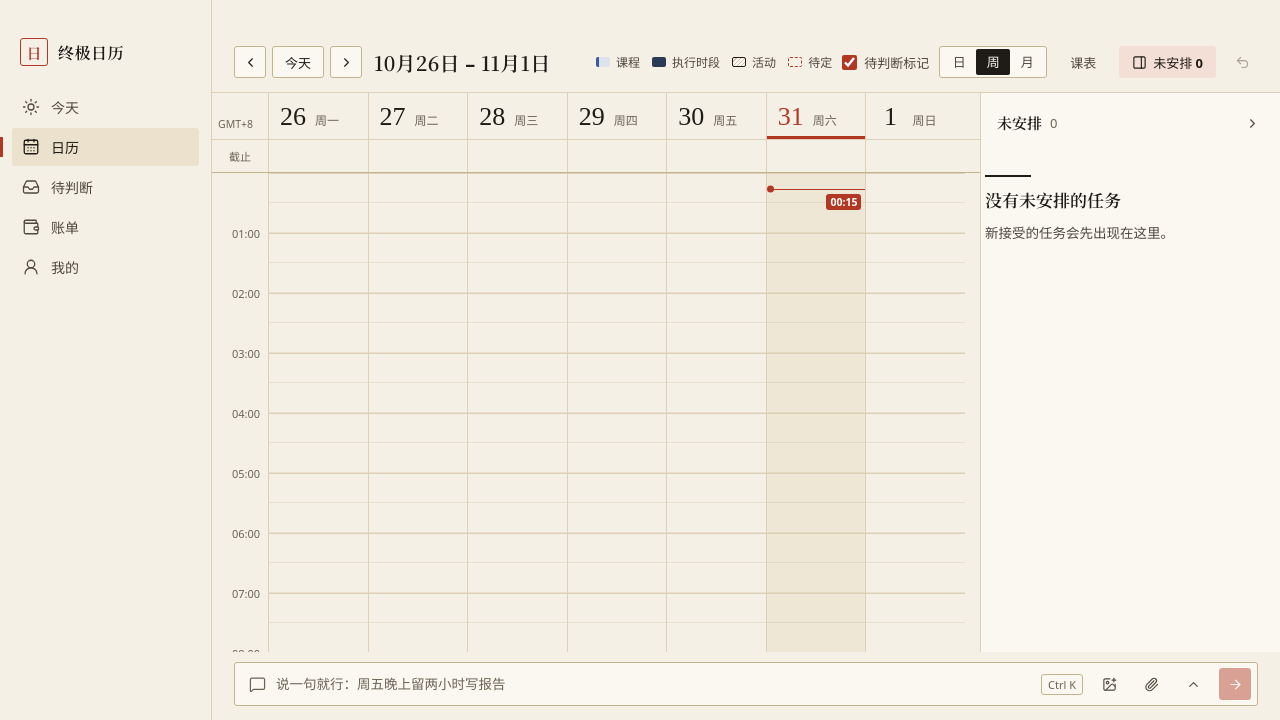
Test: desktop workspace interaction › closes the course manager when navigating from its original screenshot to key settings
The image size is (1280, 720).
Click the button "课表": (1083, 62) top-left (1057, 46), bottom-right (1109, 78)
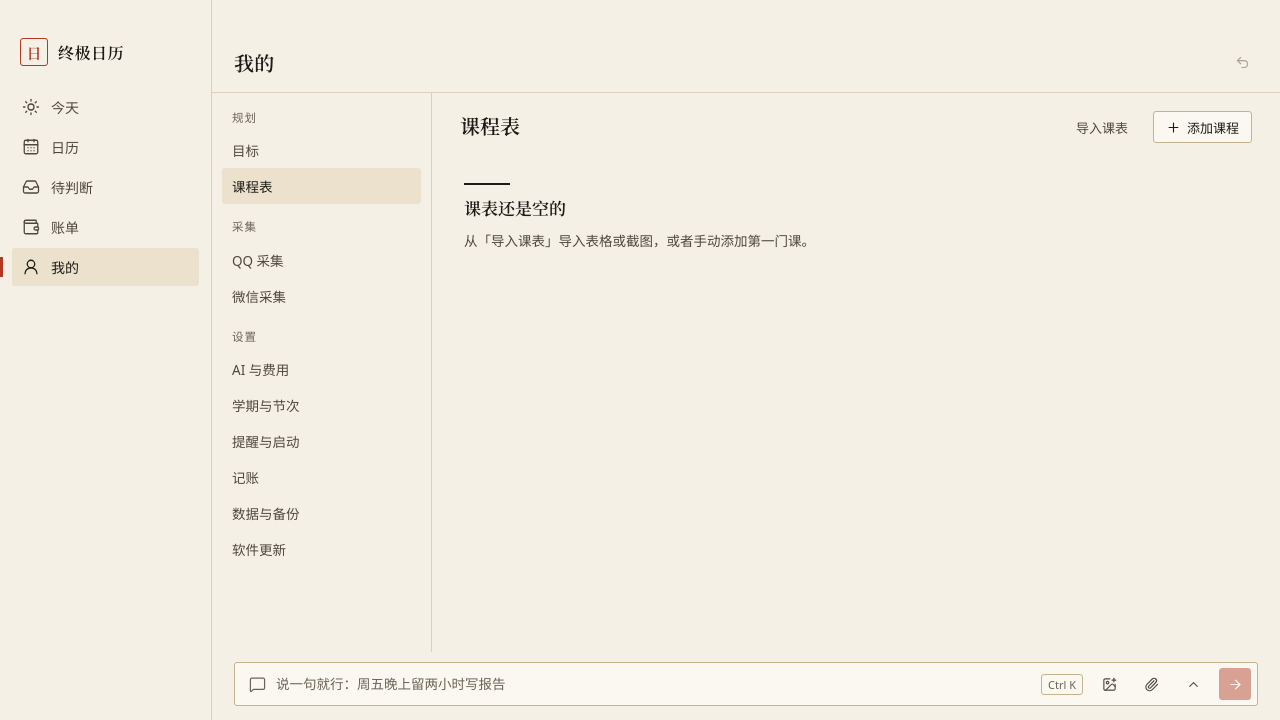
Click the button "导入课表": (1102, 127) top-left (1063, 111), bottom-right (1141, 143)
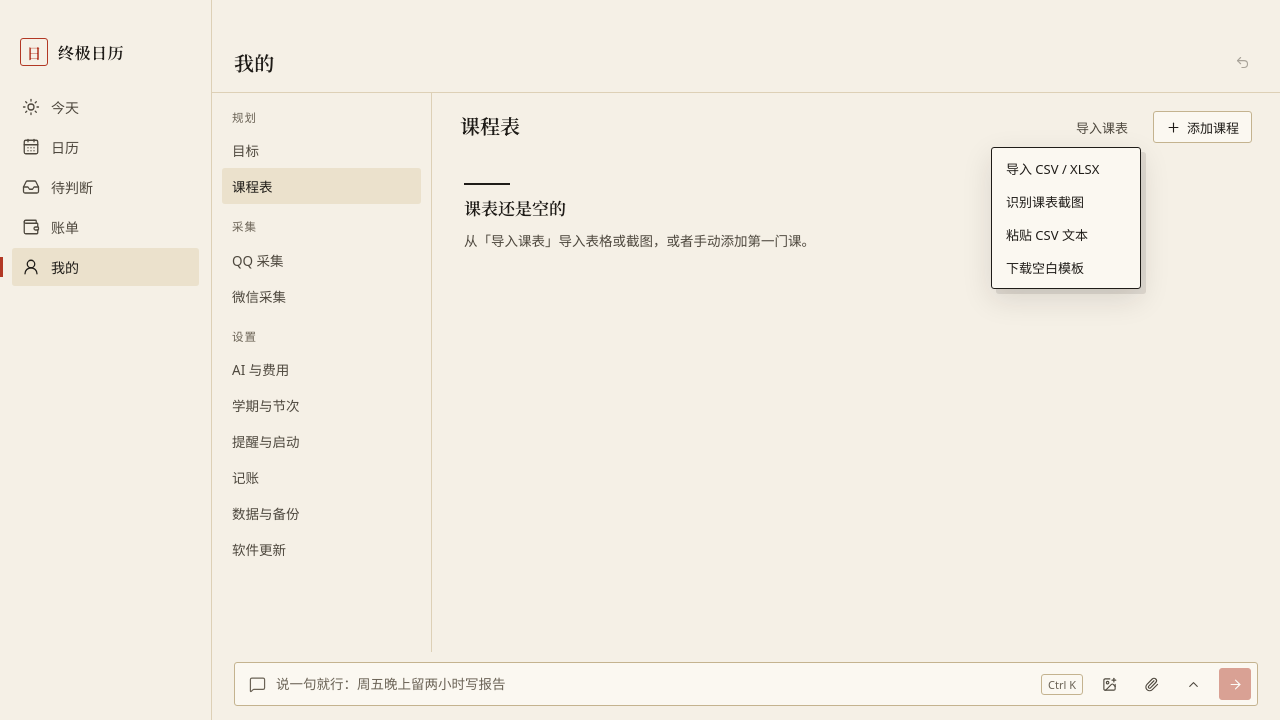
Click the menu item "导入 CSV / XLSX": (1066, 168) top-left (996, 152), bottom-right (1136, 185)
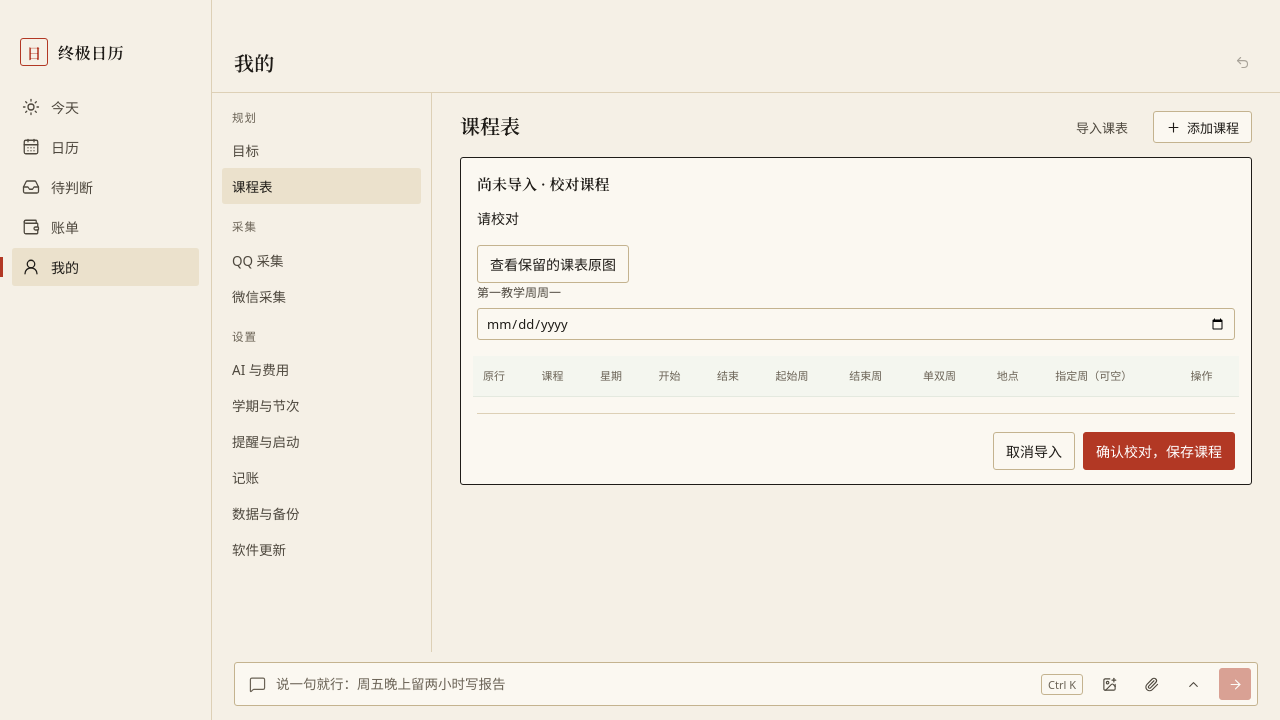
Click the button "查看保留的课表原图": (553, 264) top-left (477, 245), bottom-right (629, 283)
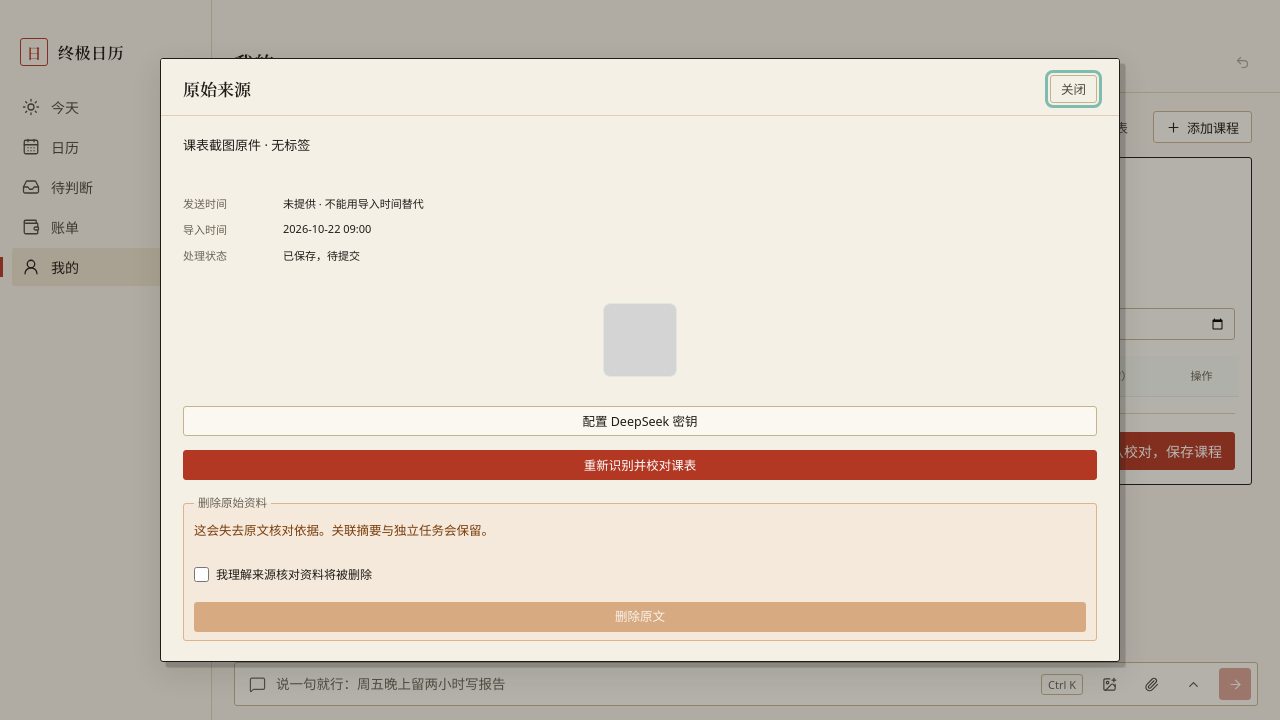
Click the button "配置 DeepSeek 密钥": (640, 421) top-left (183, 406), bottom-right (1097, 436)
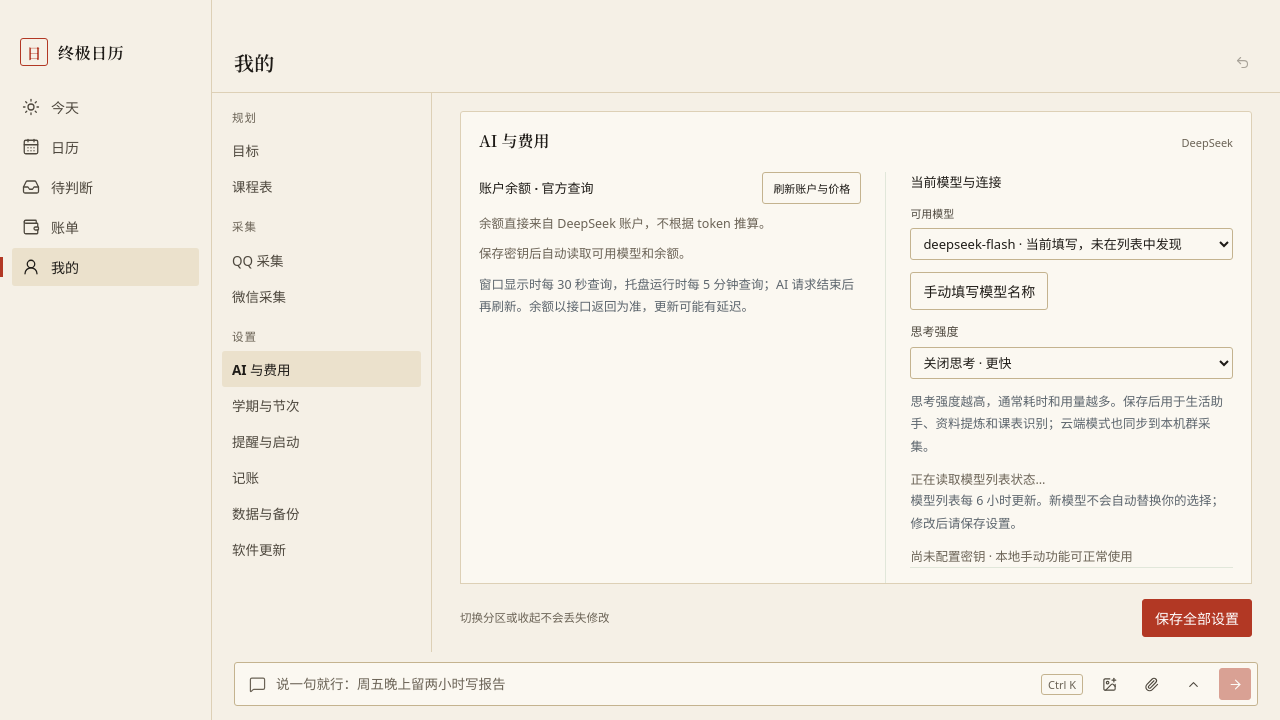
Check: the heading "我的" is shown, box top-left (234, 48), bottom-right (275, 76)
Check: the dialog is gone
Check: the element labelled "API Key" is shown, box top-left (910, 567), bottom-right (1233, 605)
